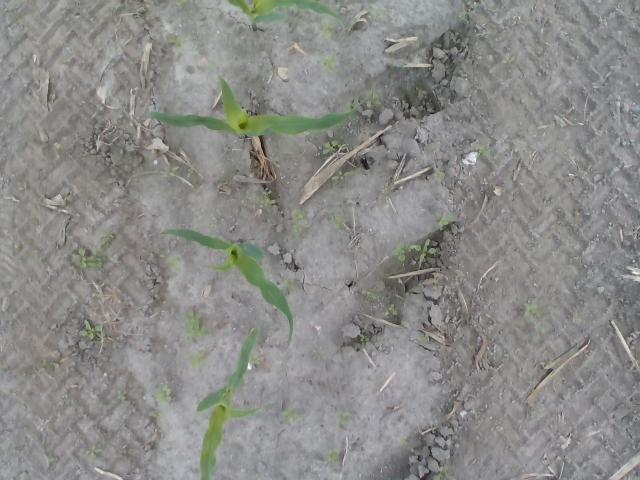Maize: (163, 227, 297, 344), (144, 72, 363, 140), (195, 325, 259, 480), (228, 0, 350, 32)
Weeds: (392, 239, 438, 264), (184, 308, 208, 344), (72, 248, 105, 270), (432, 207, 456, 232), (79, 318, 106, 338), (160, 248, 182, 272), (152, 384, 173, 406), (182, 351, 208, 368), (290, 207, 304, 238), (360, 287, 384, 304), (522, 302, 542, 321), (321, 16, 338, 37), (281, 408, 303, 424), (80, 447, 102, 463), (95, 230, 113, 248), (383, 303, 401, 320), (334, 410, 353, 426), (322, 140, 339, 156), (256, 191, 272, 208), (160, 162, 177, 178), (362, 93, 381, 107), (324, 53, 337, 72), (345, 94, 359, 110), (167, 35, 184, 48), (332, 169, 352, 180), (432, 467, 448, 480), (476, 142, 488, 158), (249, 354, 265, 366), (417, 332, 433, 344), (334, 214, 344, 232), (327, 448, 338, 464), (283, 279, 297, 291), (372, 7, 386, 18), (434, 170, 446, 182), (52, 143, 64, 154), (501, 54, 514, 64), (359, 334, 369, 347), (48, 456, 64, 464), (116, 390, 128, 400), (48, 361, 64, 368), (542, 357, 552, 368), (398, 435, 408, 446), (176, 0, 188, 9), (128, 10, 143, 17), (246, 190, 256, 200), (184, 166, 193, 177), (416, 88, 428, 96), (311, 350, 320, 360), (150, 409, 160, 417), (208, 62, 215, 72), (383, 182, 390, 192), (225, 80, 232, 90)
